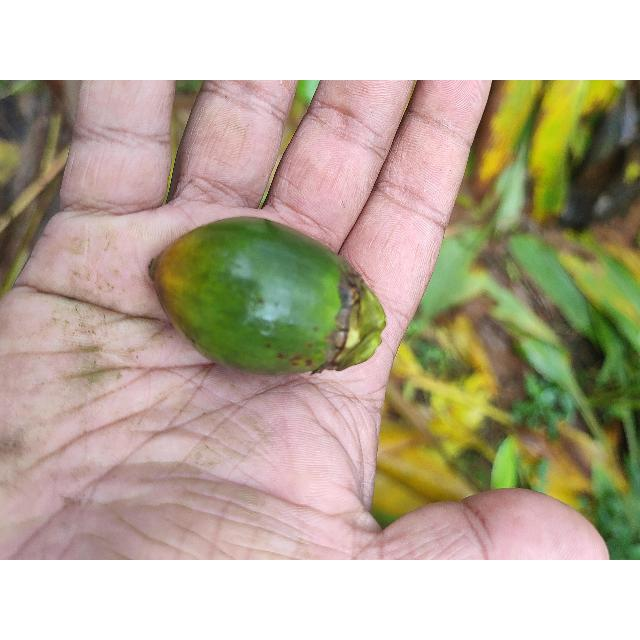damaged: (141, 214, 390, 377)
